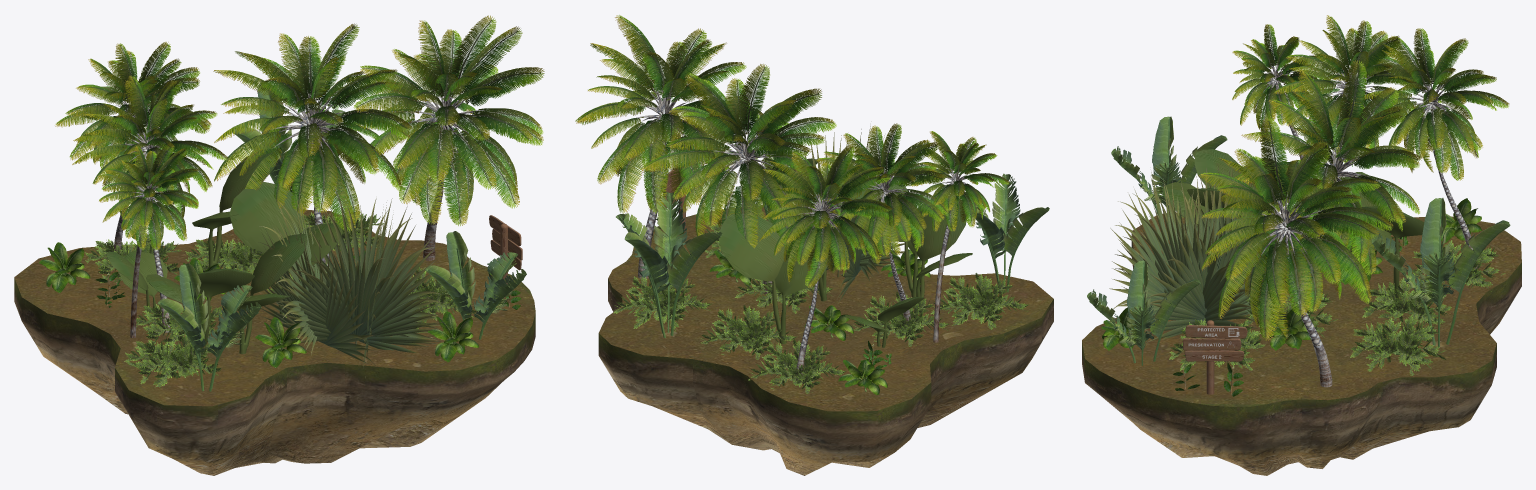
File: pres-stg2.glb
The picture shows the model from 3 angles, left to right: view 1: azimuth 30°, elevation 25°; view 2: azimuth 150°, elevation 25°; view 3: azimuth 270°, elevation 25°; orthographic projection. The views are drawn at different scales.
Visible parts, largest first — view 1: ISOLOTTI_GRP_isola_02_terra_geo_ISOLOTTI_002_GRP, Cocco_3_000, Cocco_3_000.001, PLANTS_GRP_PLANT04_shapaja_J_geo.005, Cocco_2_000.001, Cocco_2_000, Cocco_6_000, PLANTS_GRP_PLANT02_iriarteaDeltoidea_J_geo, PLANTS_GRP_PLANT03_murumuru_J_GEO, PLANTS_GRP_PLANT03_murumuru_J_GEO.004, Bush_1.004, PLANTS_GRP_PLANT02_iriarteaDeltoidea_J_geo.004 (+12 smaller); view 2: ISOLOTTI_GRP_isola_02_terra_geo_ISOLOTTI_002_GRP, Cocco_3_000.001, Cocco_3_000, Cocco_2_000, Cocco_2_000.001, PLANTS_GRP_PLANT03_murumuru_J_GEO.001, Cocco_6_000, PLANTS_GRP_PLANT02_iriarteaDeltoidea_J_geo.002, PLANTS_GRP_PLANT03_murumuru_J_GEO, Bush_1.004, Bush_1.005, Bush_1.003 (+11 smaller); view 3: ISOLOTTI_GRP_isola_02_terra_geo_ISOLOTTI_002_GRP, Cocco_3_000, Cocco_3_000.001, PLANTS_GRP_PLANT04_shapaja_J_geo.005, Cocco_2_000, Cocco_2_000.001, PLANTS_GRP_PLANT03_murumuru_J_GEO.001, Cocco_6_000, PLANTS_GRP_PLANT03_murumuru_J_GEO.004, Bush_1.001, PLANTS_GRP_PLANT03_murumuru_J_GEO, Bush_1.005 (+13 smaller).
Boxes of the visible parts, bbox=[...] form: ISOLOTTI_GRP_isola_02_terra_geo_ISOLOTTI_002_GRP: bbox=[14, 210, 535, 475]; Cocco_3_000: bbox=[346, 15, 544, 260]; Cocco_3_000.001: bbox=[213, 23, 412, 269]; PLANTS_GRP_PLANT04_shapaja_J_geo.005: bbox=[248, 191, 445, 378]; Cocco_2_000.001: bbox=[72, 75, 228, 332]; Cocco_2_000: bbox=[55, 42, 211, 252]; Cocco_6_000: bbox=[97, 143, 198, 338]; PLANTS_GRP_PLANT02_iriarteaDeltoidea_J_geo: bbox=[229, 181, 342, 314]; PLANTS_GRP_PLANT03_murumuru_J_GEO: bbox=[157, 263, 261, 391]; PLANTS_GRP_PLANT03_murumuru_J_GEO.004: bbox=[425, 231, 526, 339]; Bush_1.004: bbox=[124, 335, 221, 388]; PLANTS_GRP_PLANT02_iriarteaDeltoidea_J_geo.004: bbox=[224, 234, 306, 353]; ISOLOTTI_GRP_isola_02_terra_geo_ISOLOTTI_002_GRP: bbox=[598, 204, 1053, 475]; Cocco_3_000.001: bbox=[641, 64, 836, 294]; Cocco_3_000: bbox=[575, 15, 762, 278]; Cocco_2_000: bbox=[759, 145, 899, 383]; Cocco_2_000.001: bbox=[815, 123, 948, 326]; PLANTS_GRP_PLANT03_murumuru_J_GEO.001: bbox=[616, 192, 722, 337]; Cocco_6_000: bbox=[910, 131, 1009, 342]; PLANTS_GRP_PLANT02_iriarteaDeltoidea_J_geo.002: bbox=[718, 214, 830, 344]; PLANTS_GRP_PLANT03_murumuru_J_GEO: bbox=[969, 173, 1049, 292]; Bush_1.004: bbox=[930, 273, 1029, 329]; Bush_1.005: bbox=[700, 305, 797, 359]; Bush_1.003: bbox=[748, 339, 847, 393]; ISOLOTTI_GRP_isola_02_terra_geo_ISOLOTTI_002_GRP: bbox=[1082, 212, 1521, 475]; Cocco_3_000: bbox=[1198, 118, 1393, 387]; Cocco_3_000.001: bbox=[1228, 60, 1421, 307]; PLANTS_GRP_PLANT04_shapaja_J_geo.005: bbox=[1109, 163, 1300, 342]; Cocco_2_000: bbox=[1364, 28, 1509, 269]; Cocco_2_000.001: bbox=[1273, 15, 1414, 238]; PLANTS_GRP_PLANT03_murumuru_J_GEO.001: bbox=[1371, 198, 1510, 347]; Cocco_6_000: bbox=[1232, 24, 1330, 159]; PLANTS_GRP_PLANT03_murumuru_J_GEO.004: bbox=[1087, 260, 1200, 365]; Bush_1.001: bbox=[1350, 314, 1445, 375]; PLANTS_GRP_PLANT03_murumuru_J_GEO: bbox=[1111, 116, 1227, 239]; Bush_1.005: bbox=[1362, 274, 1457, 326].
Bounding box in the file's own units: 3.1 × 2.51 × 2.6.
Materials: 15 (15 with a texture image).
